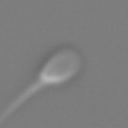normal: (1, 79, 41, 124)
